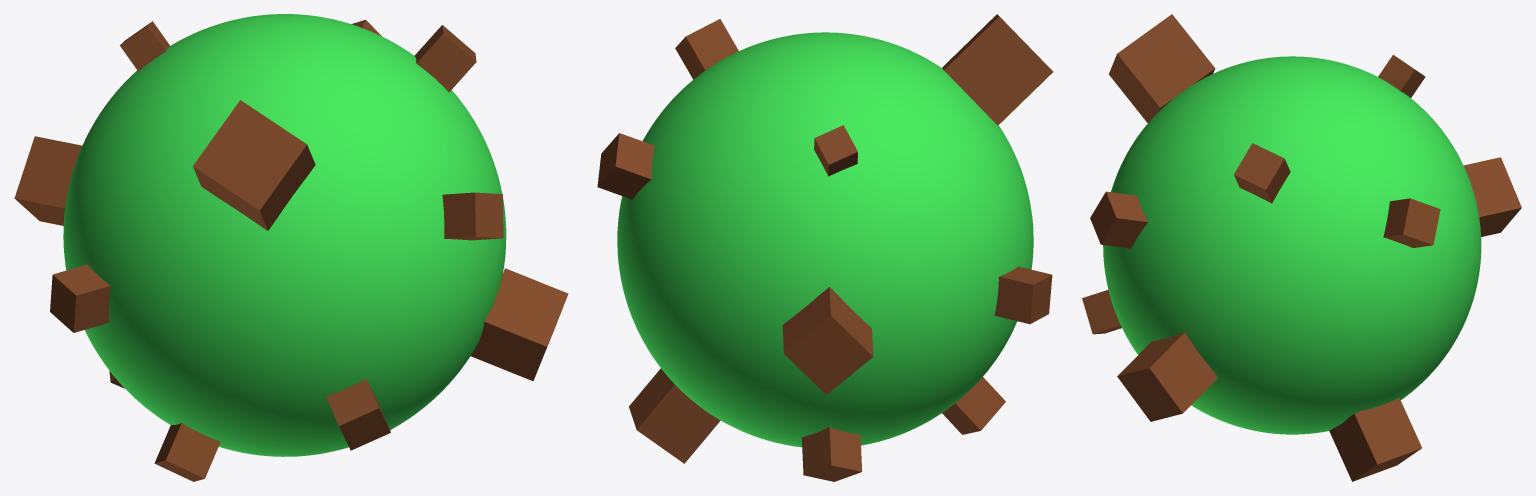
Rendered from Planet.fbx.
3 views of the same model, side by side, from view 1: azimuth 30°, elevation 25°; view 2: azimuth 150°, elevation 25°; view 3: azimuth 270°, elevation 25° (orthographic). The views are drawn at different scales.
Visible parts, largest first — view 1: Roundcube, Cube.002; view 2: Roundcube, Cube.002; view 3: Roundcube, Cube.002.
Boxes of the visible parts, box(x1,y1,x2,y2) form: Roundcube: box(63, 14, 506, 456); Cube.002: box(14, 19, 568, 481); Roundcube: box(617, 32, 1033, 447); Cube.002: box(597, 14, 1053, 481); Roundcube: box(1103, 56, 1481, 434); Cube.002: box(1082, 14, 1521, 481).
Size of the model in its own units: 2257 by 2151 by 2326.
